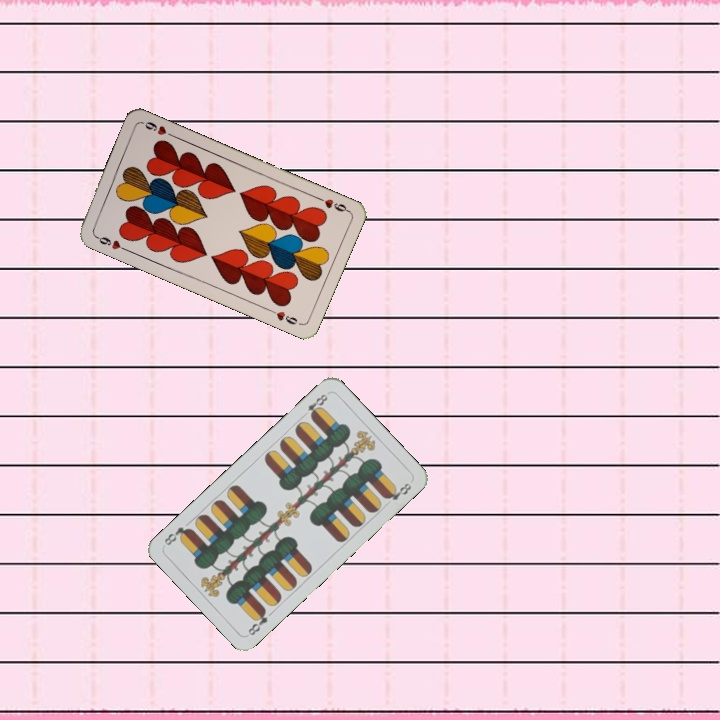E8: (298, 389, 331, 421), (244, 604, 270, 638)
H9: (312, 193, 351, 215), (91, 231, 130, 253)
